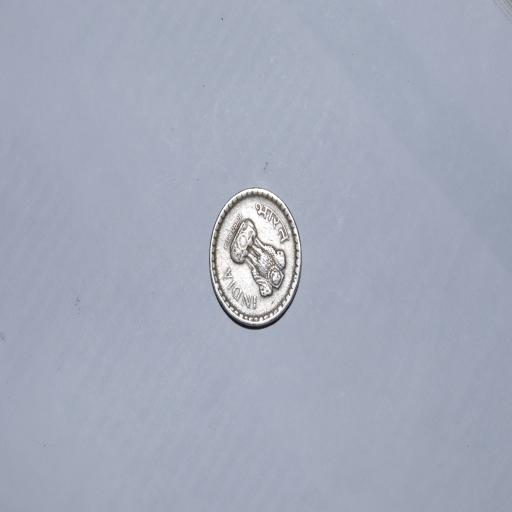rupee5: (205, 184, 304, 331)
